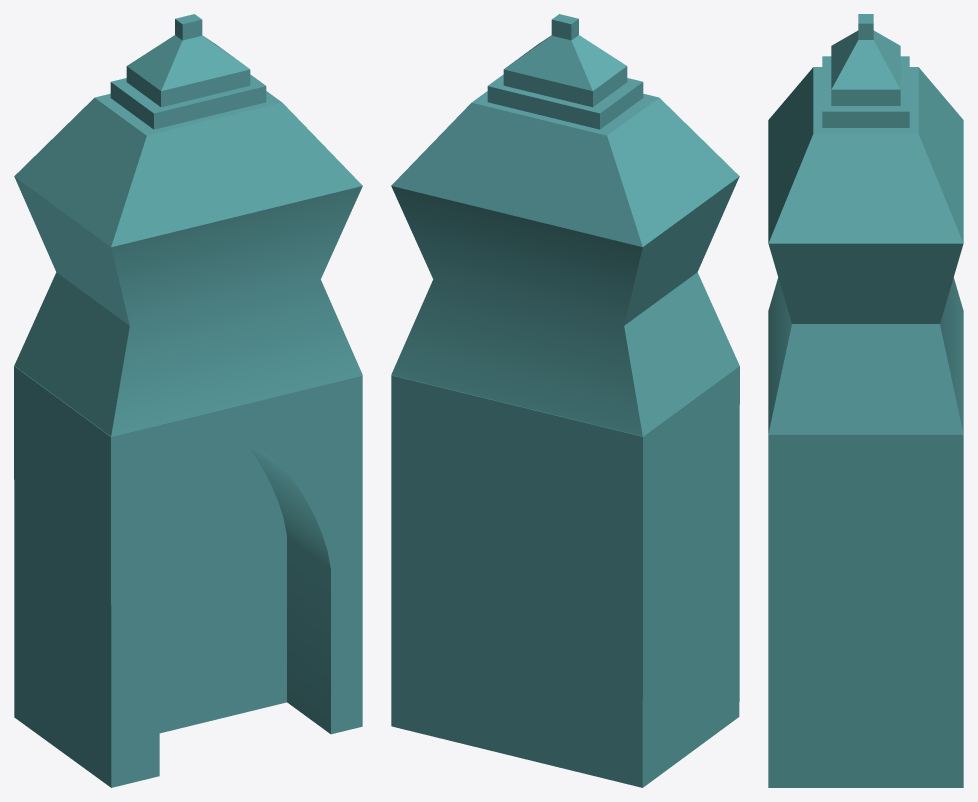
Rendered from Tower Small.fbx.
3 views of the same model, side by side, from view 1: azimuth 30°, elevation 25°; view 2: azimuth 150°, elevation 25°; view 3: azimuth 270°, elevation 25° (orthographic).
Visible parts, largest first — view 1: Tower Small; view 2: Tower Small; view 3: Tower Small.
Part boxes in pixels (x1,y1,x2,y2): Tower Small: (14,14,362,787); Tower Small: (391,14,739,787); Tower Small: (768,14,963,787).
Bounding box in the file's own units: 3 × 8 × 2.
